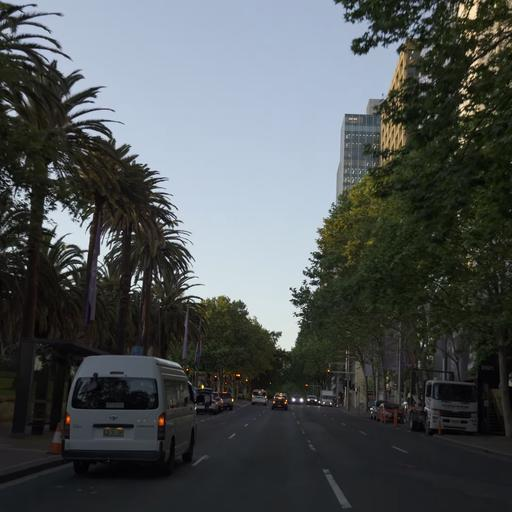Street light: (326, 367, 349, 408), (303, 382, 308, 390), (326, 368, 331, 374)
